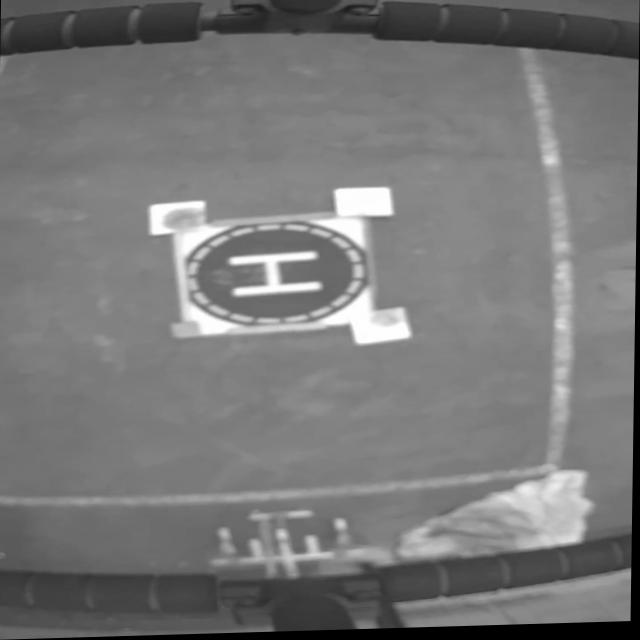Helipad: (228, 252, 323, 302)
